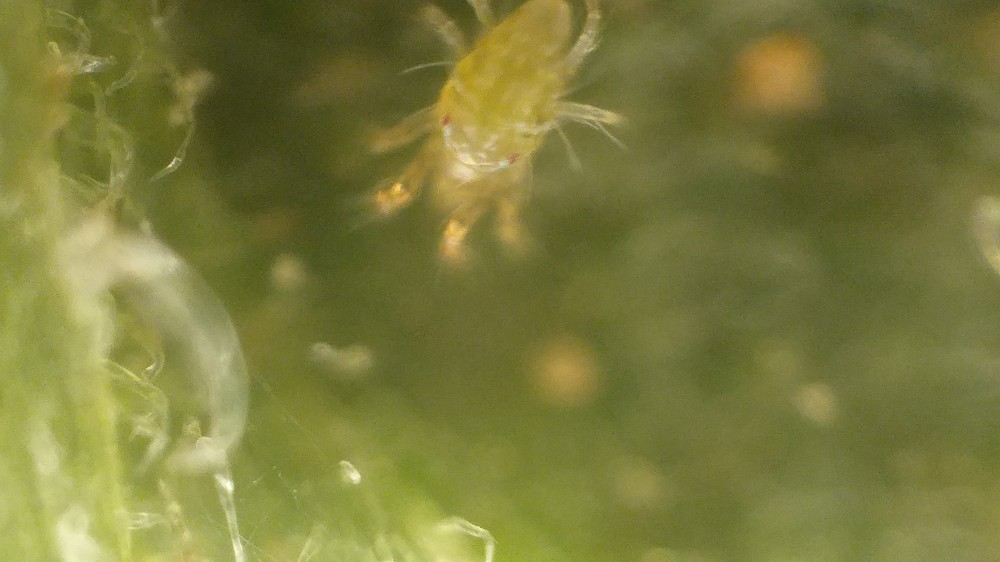Aracnido Rojo: (360, 4, 657, 292)
